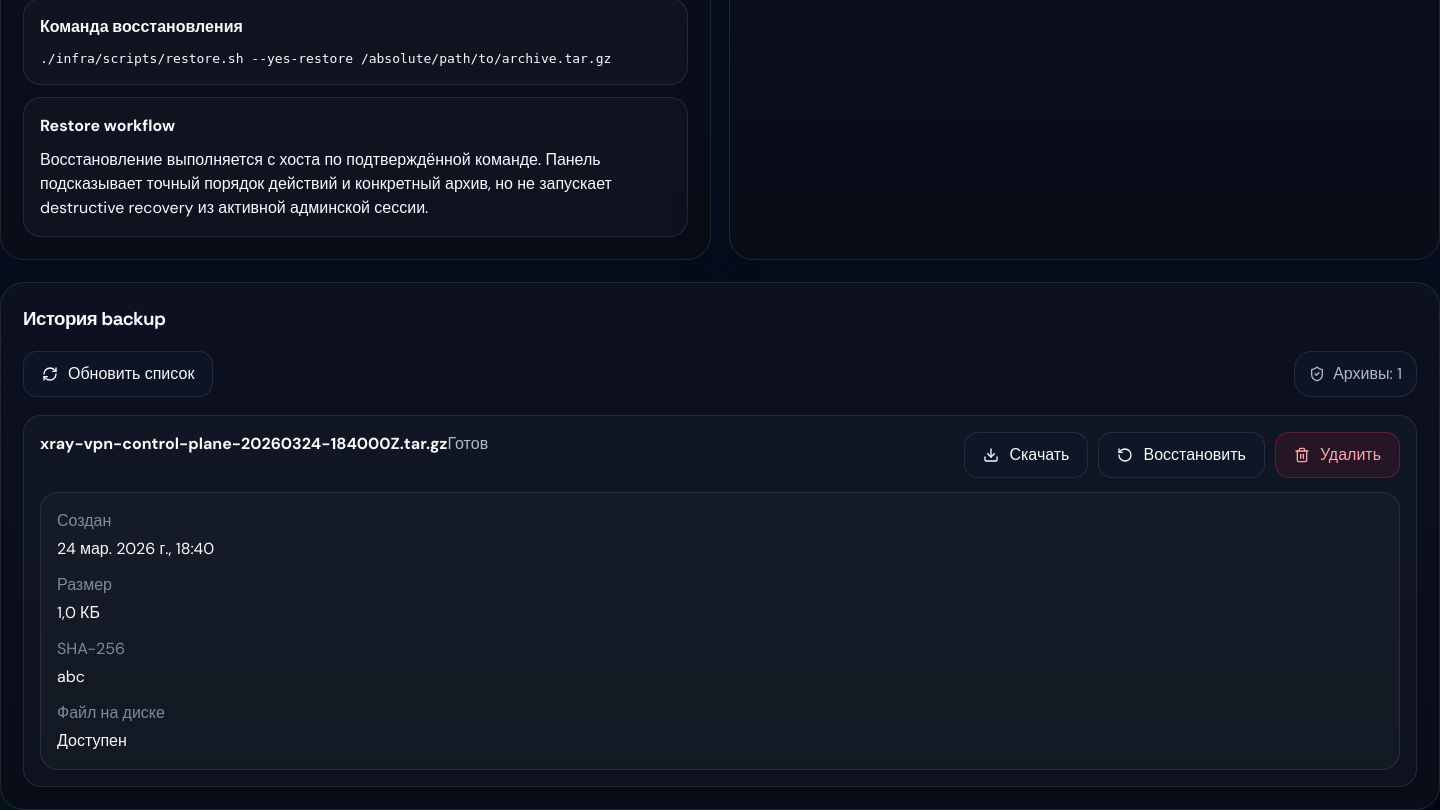
Scenario: BackupsPage › loads a restore plan before showing the restore commands
The image size is (1440, 810).
(page scrolled)
Check: the text "xray-vpn-control-plane-20260324-184000Z.tar.gz" is shown, box [40, 434, 448, 454]
Click the button "Восстановить". click: coordinates (1182, 456)
box: [1098, 432, 1265, 478]
(page scrolled)
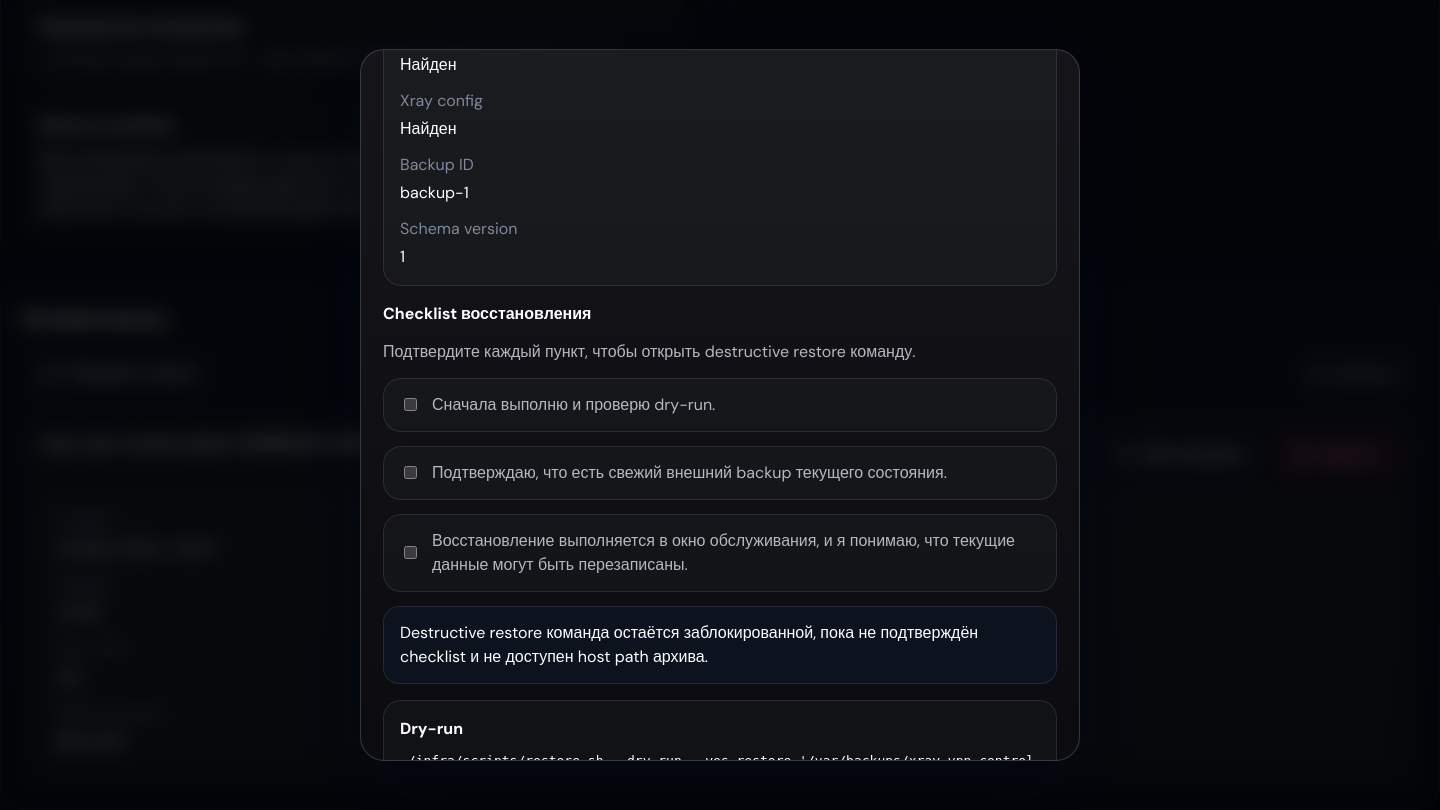
Click the checkbox labelled "Сначала выполню и проверю dry-run.". click: coordinates (410, 405)
box: [404, 398, 417, 411]
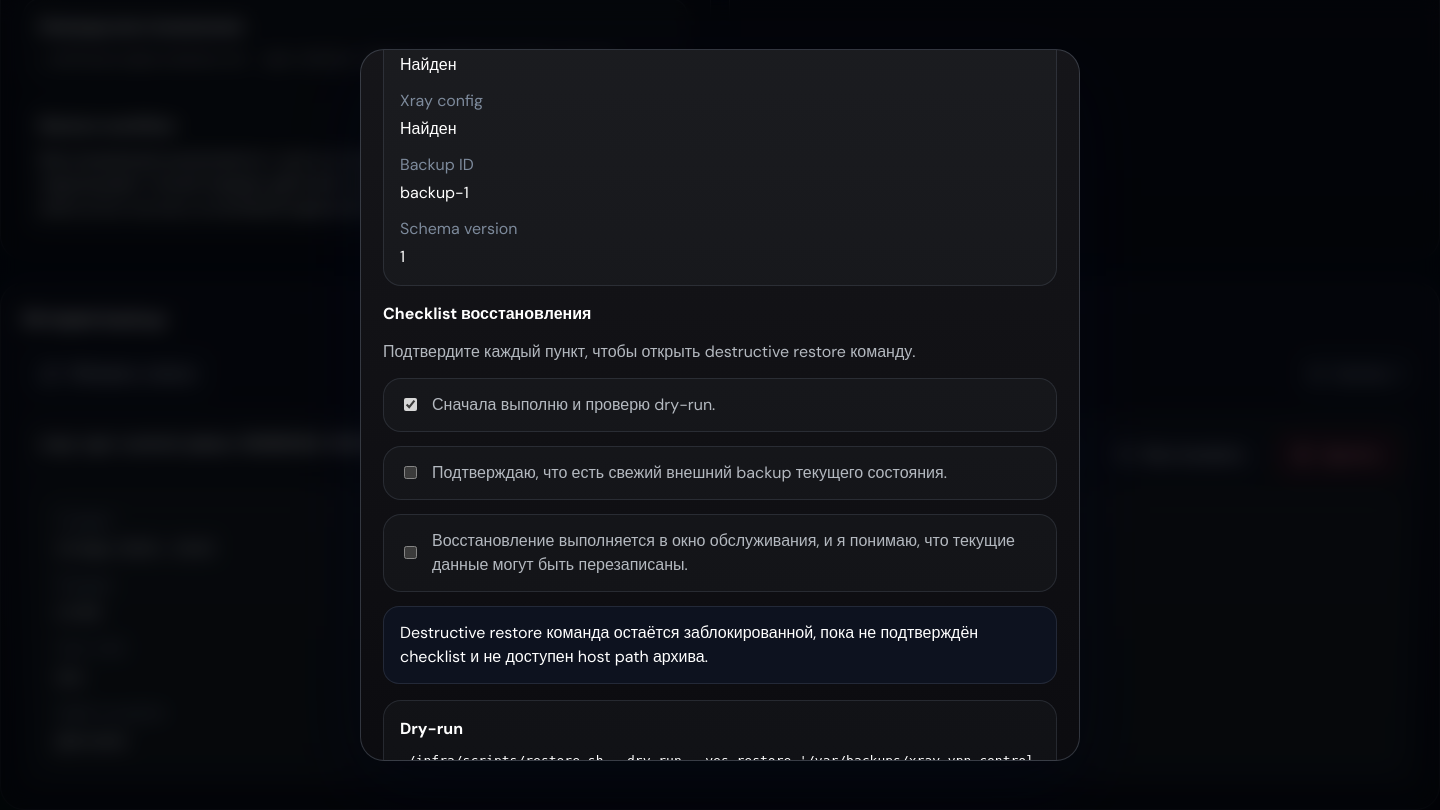
Click the checkbox labelled "backup". click: coordinates (410, 473)
box: [404, 466, 417, 479]
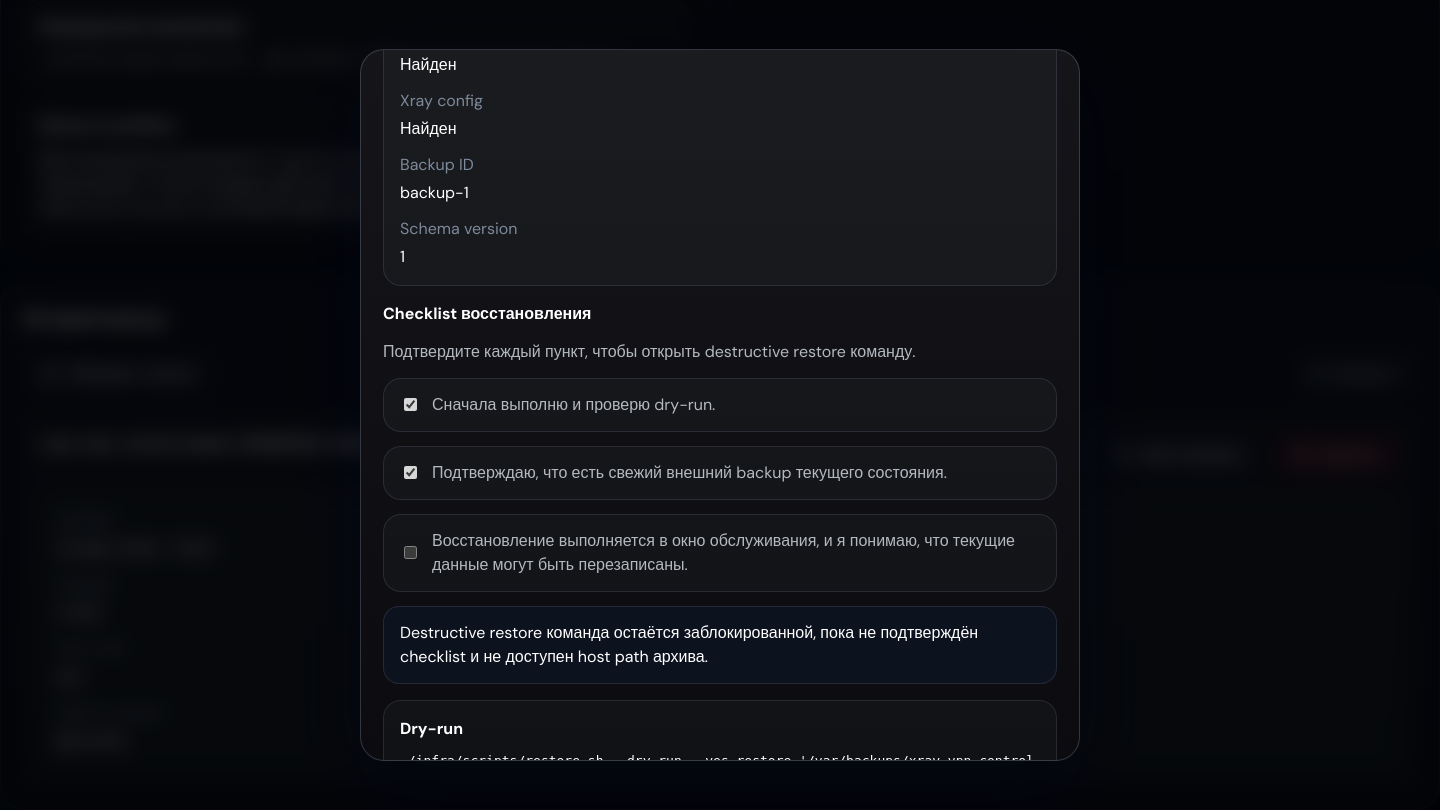
Click the 3rd checkbox. click: coordinates (410, 553)
box: [404, 546, 417, 559]
(page scrolled)
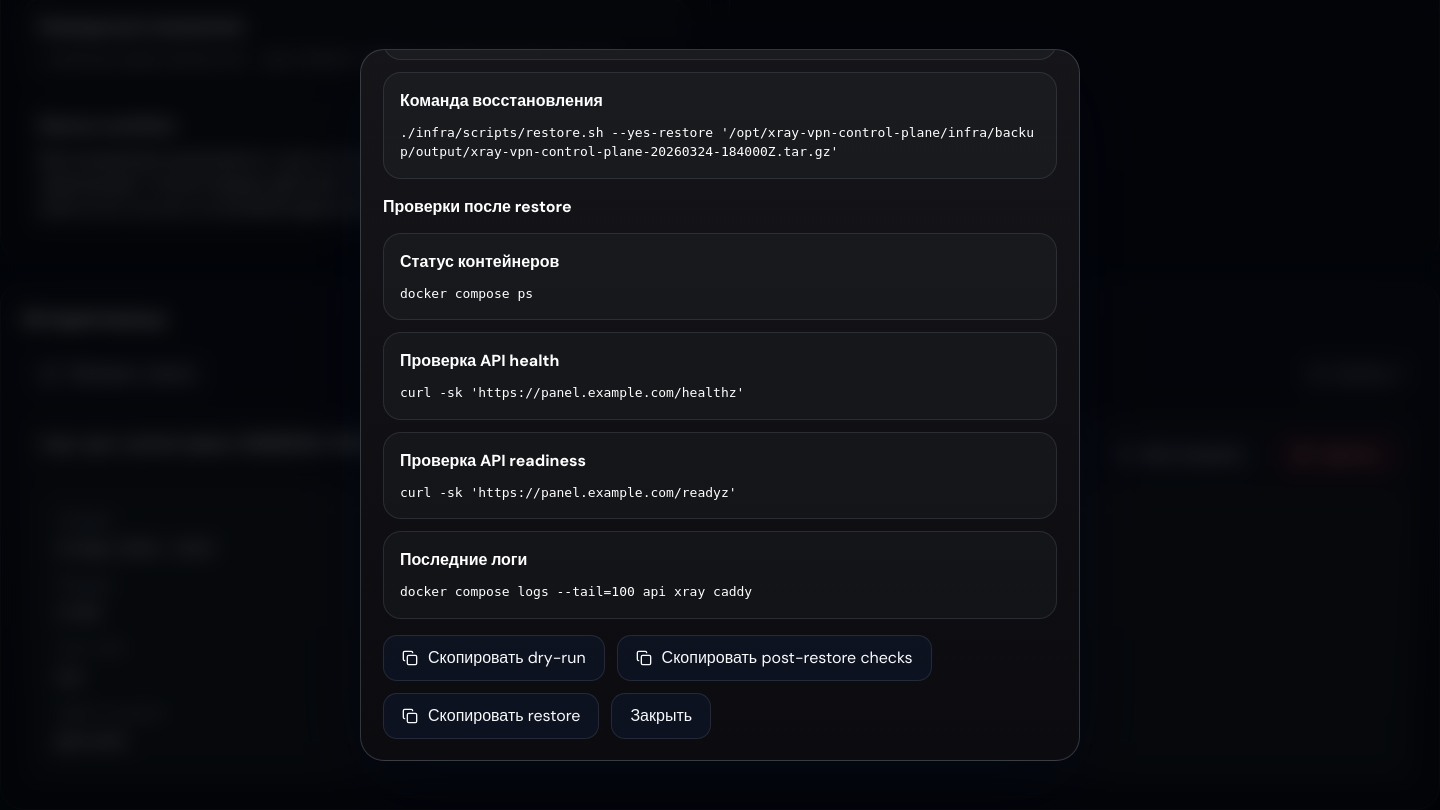
Check: the button "Скопировать post-restore checks" is shown, box [617, 635, 932, 681]
